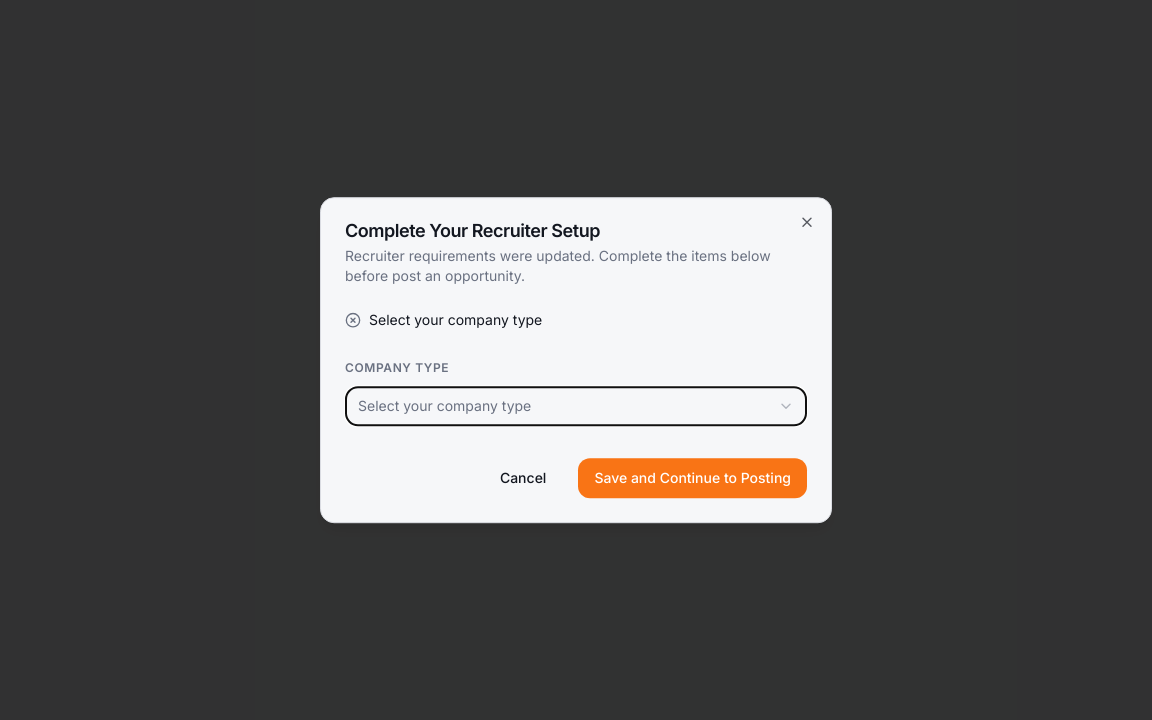
it: Phase 1P-A4 — Legacy recruiter inline readiness dialog › selecting carrier reveals DOT/MC and other types remove the authority blocker
The image size is (1152, 720).
Pick Carrier via the Radix Select trigger.
What coordinates should you click on to do the following:
click the dropdown with test id "rr-company-type"
I would click on:
 (445, 405)
Its box is x1=345 y1=386 x2=807 y2=426.
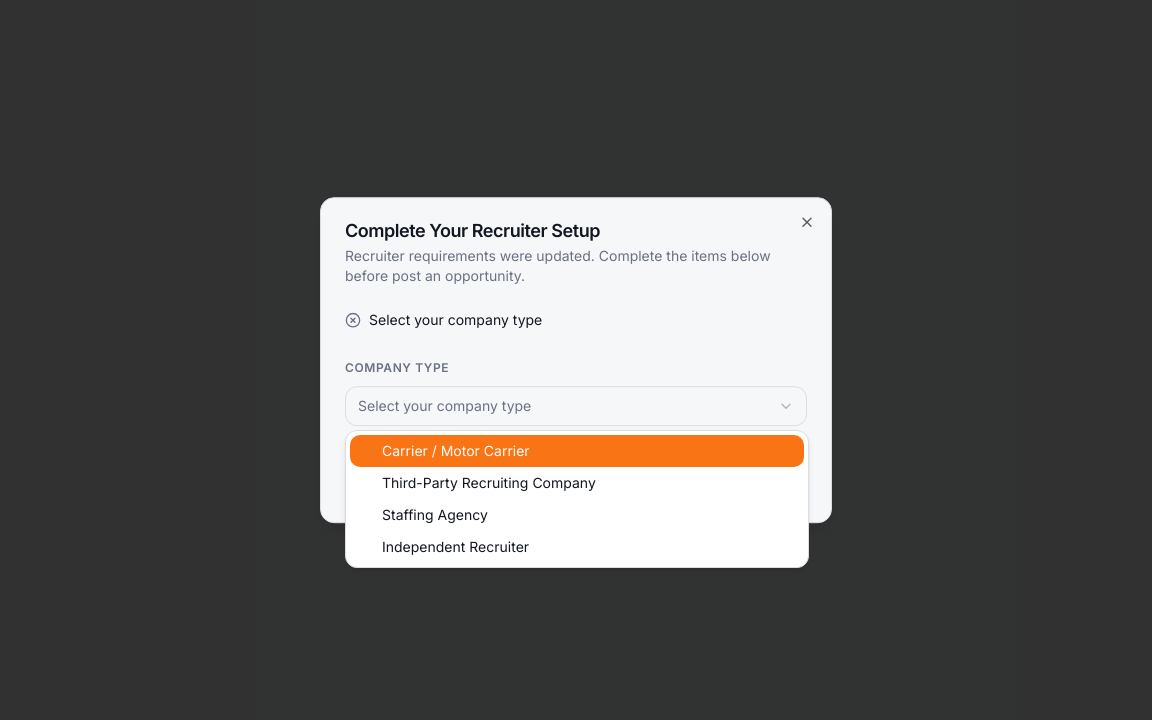
What coordinates should you click on to do the following:
click the option "Carrier / Motor Carrier"
I would click on:
 (456, 450)
Its box is x1=350 y1=435 x2=804 y2=467.
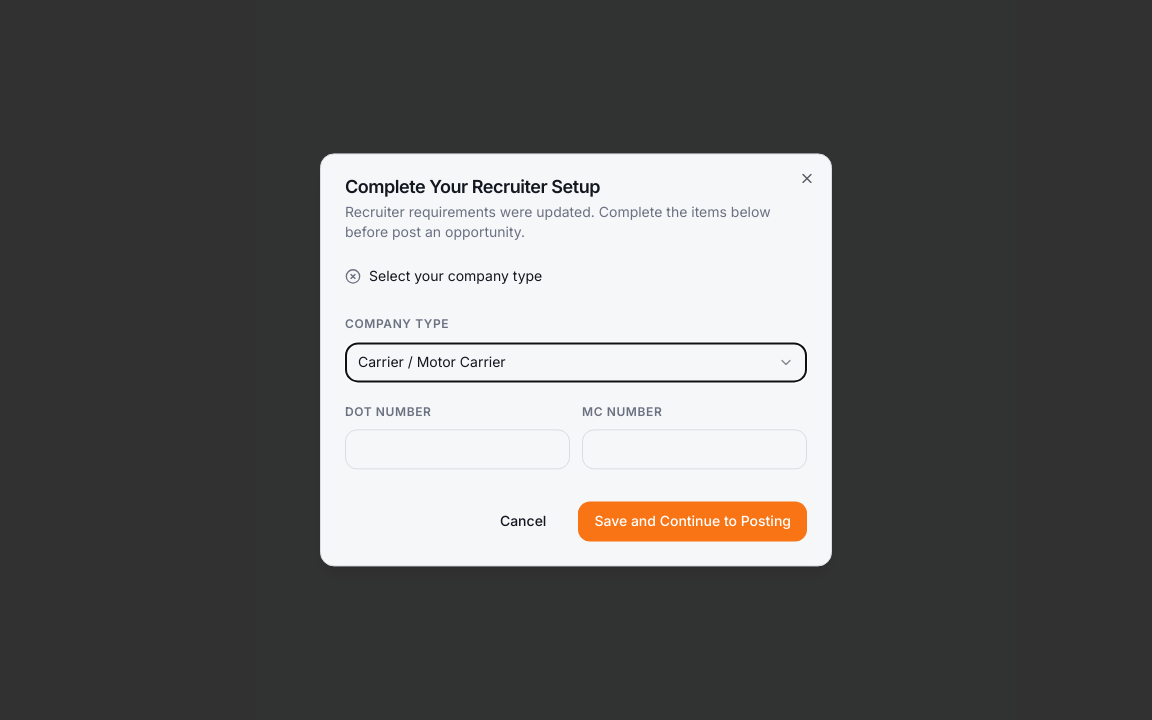
Result: the field with test id "rr-dot-number" is shown at x1=345 y1=430 x2=570 y2=470
Result: the field with test id "rr-mc-number" is shown at x1=582 y1=430 x2=807 y2=470
What coordinates should you click on to do the following:
click the dropdown with test id "rr-company-type"
I would click on:
 (432, 362)
Its box is x1=345 y1=342 x2=807 y2=382.
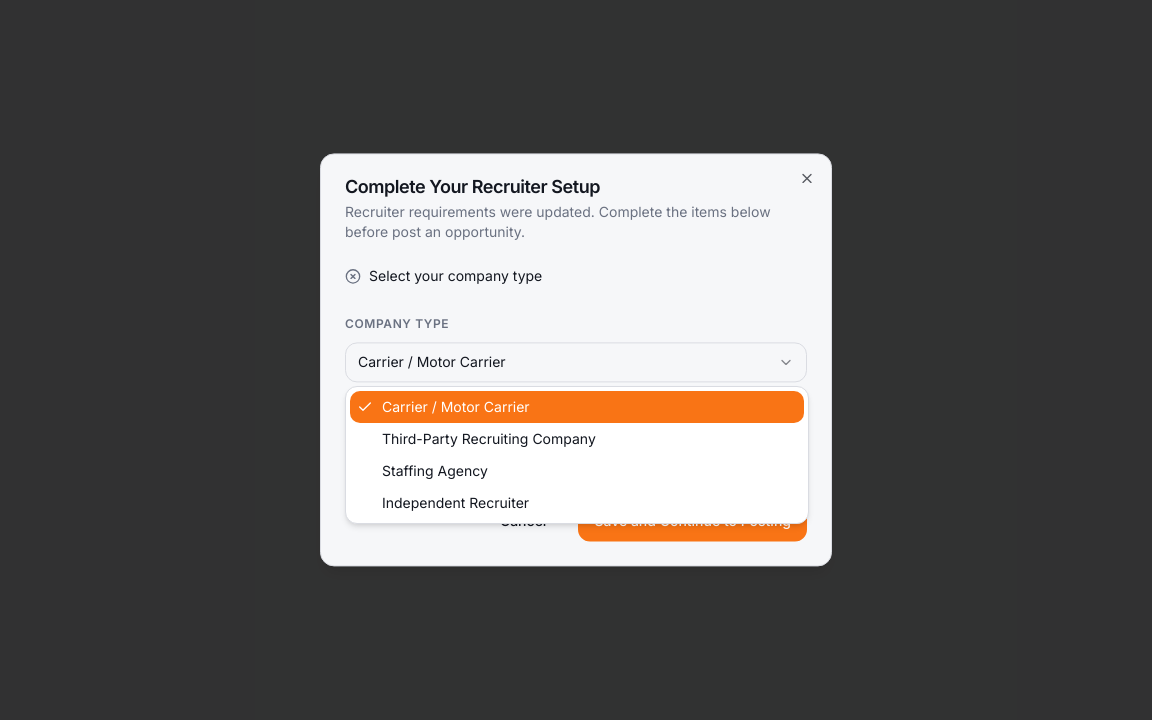
What coordinates should you click on to do the following:
click the option "Staffing Agency"
I would click on:
 (435, 470)
Its box is x1=382 y1=462 x2=488 y2=479.
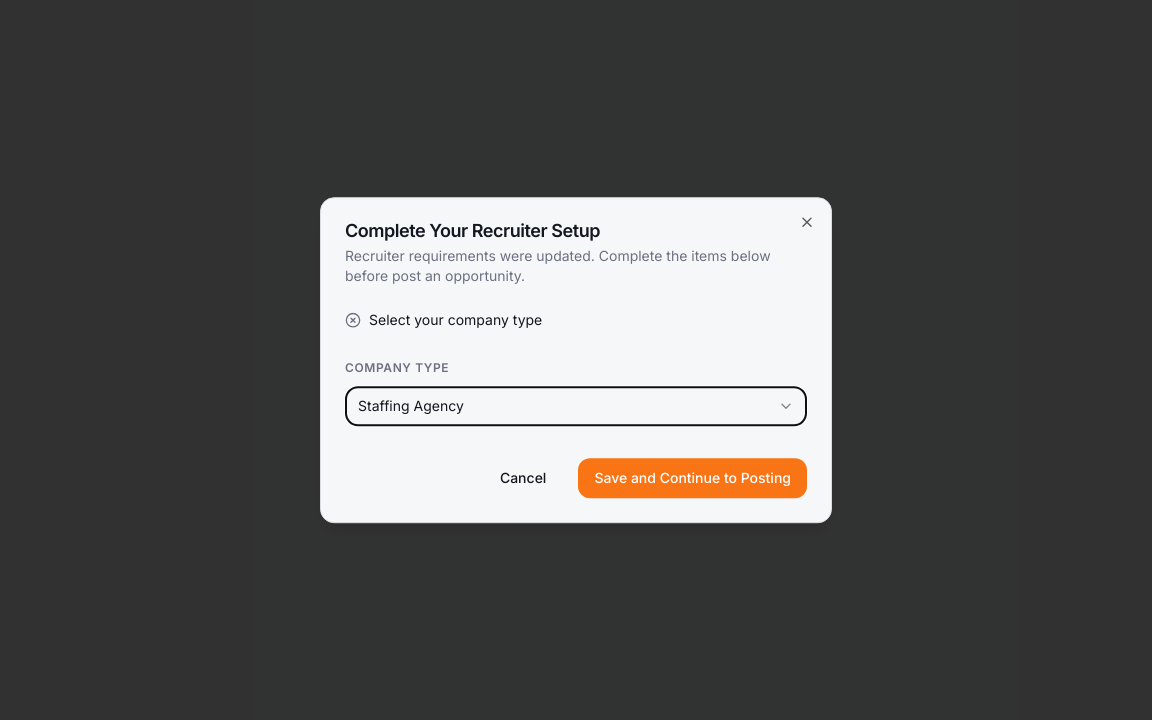
Result: the field with test id "rr-dot-number" is gone
